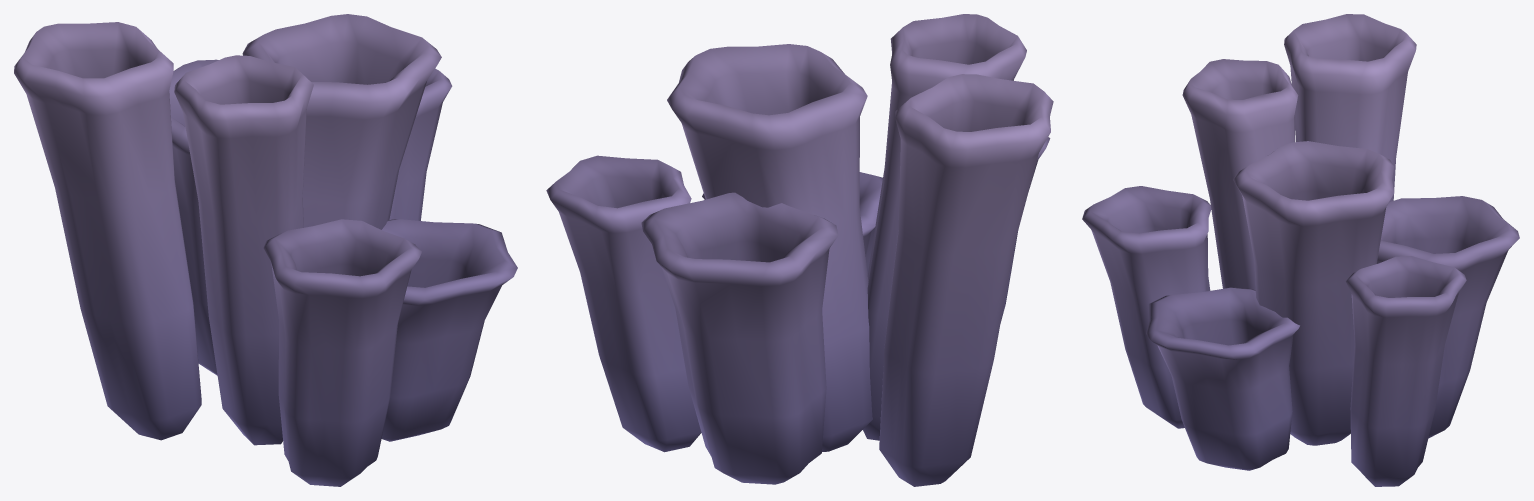
Rendered from tube_sponge.glb.
The picture shows the model from 3 angles, left to right: view 1: azimuth 30°, elevation 25°; view 2: azimuth 150°, elevation 25°; view 3: azimuth 270°, elevation 25°; orthographic projection. The views are drawn at different scales.
Visible parts, largest first — view 1: world; view 2: world; view 3: world.
Part boxes in pixels (box(x1,y1,x2,y2)): world: box(14, 14, 517, 486); world: box(546, 14, 1053, 486); world: box(1082, 14, 1519, 486).
Size of the model in its own units: 0.7565 by 0.6285 by 0.7674.
